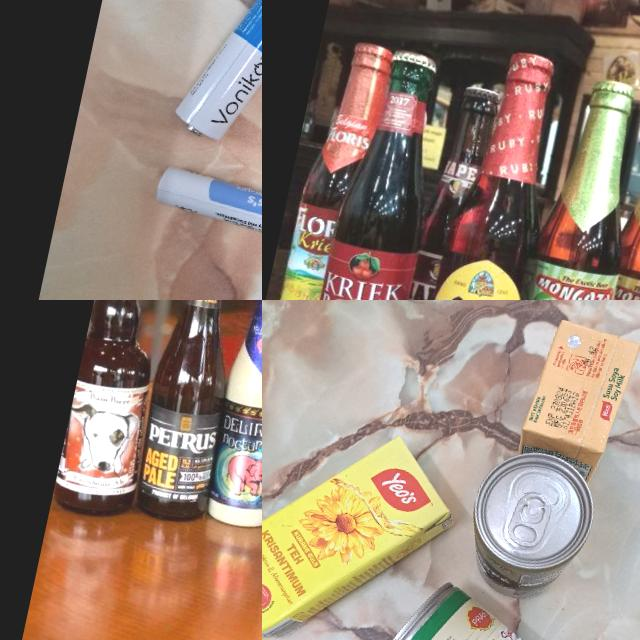aba de lata: (505, 490, 556, 551)
bateria: (169, 0, 262, 158), (149, 162, 262, 248)
caixinha: (262, 401, 470, 640), (515, 314, 640, 484)
garrafa de vidro: (406, 42, 582, 300), (295, 40, 463, 300), (267, 33, 395, 300), (497, 71, 640, 300), (50, 300, 189, 522), (123, 300, 258, 527), (390, 79, 501, 300), (196, 300, 262, 532), (585, 96, 640, 300)
lata: (456, 438, 604, 606), (347, 570, 614, 640)
